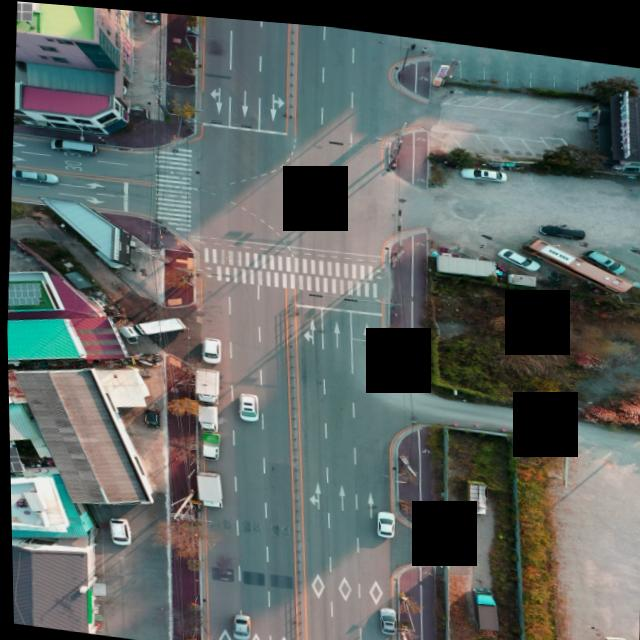car: (577, 240, 622, 266), (493, 238, 538, 263), (47, 133, 97, 154), (532, 213, 583, 233), (459, 158, 505, 175), (104, 514, 129, 543), (10, 167, 57, 182), (200, 334, 221, 361), (134, 405, 159, 427), (374, 505, 394, 532), (229, 610, 249, 637), (237, 390, 256, 416), (376, 601, 394, 628)
large_bus: (517, 225, 634, 285), (595, 623, 637, 640)
medium_truck: (121, 309, 189, 343), (463, 579, 501, 624), (191, 465, 224, 506), (189, 365, 217, 402)
small_truck: (461, 471, 488, 506), (192, 400, 219, 430), (199, 430, 218, 458)
